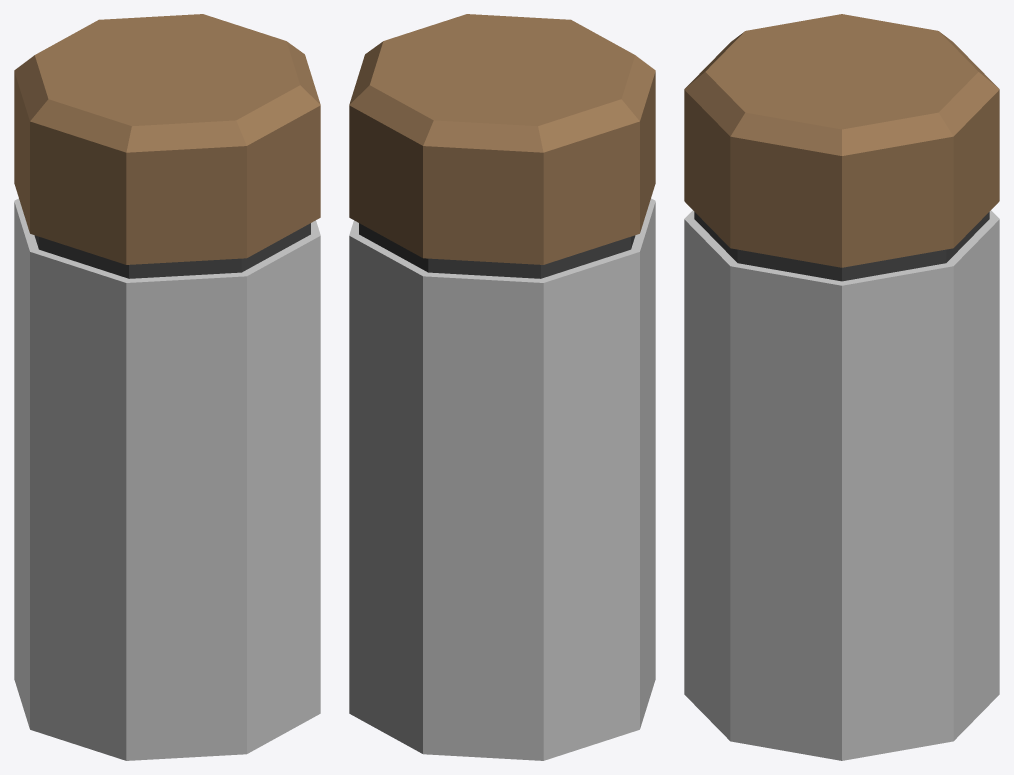
Rendered from Salt_01.fbx.
3 views of the same model, side by side, from view 1: azimuth 30°, elevation 25°; view 2: azimuth 150°, elevation 25°; view 3: azimuth 270°, elevation 25° (orthographic).
Parts seen in each view (by area): view 1: Salt_01; view 2: Salt_01; view 3: Salt_01.
Boxes of the visible parts, box(x1,y1,x2,y2) form: Salt_01: box(14, 14, 320, 760); Salt_01: box(349, 14, 655, 760); Salt_01: box(684, 14, 999, 760).
Size of the model in its own units: 4.03 by 8.77 by 4.03.
